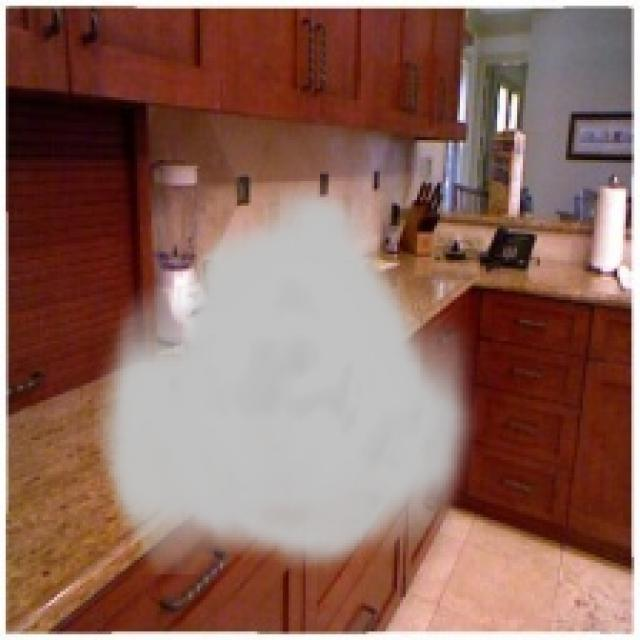Smoke: (94, 180, 486, 574)
